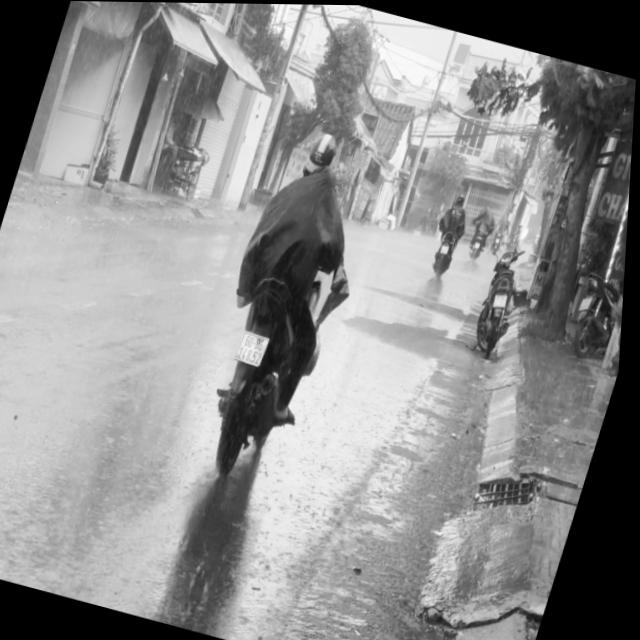helmet: (302, 126, 342, 178)
licenseplate: (179, 112, 391, 500)
nohelmet: (240, 330, 273, 366)
